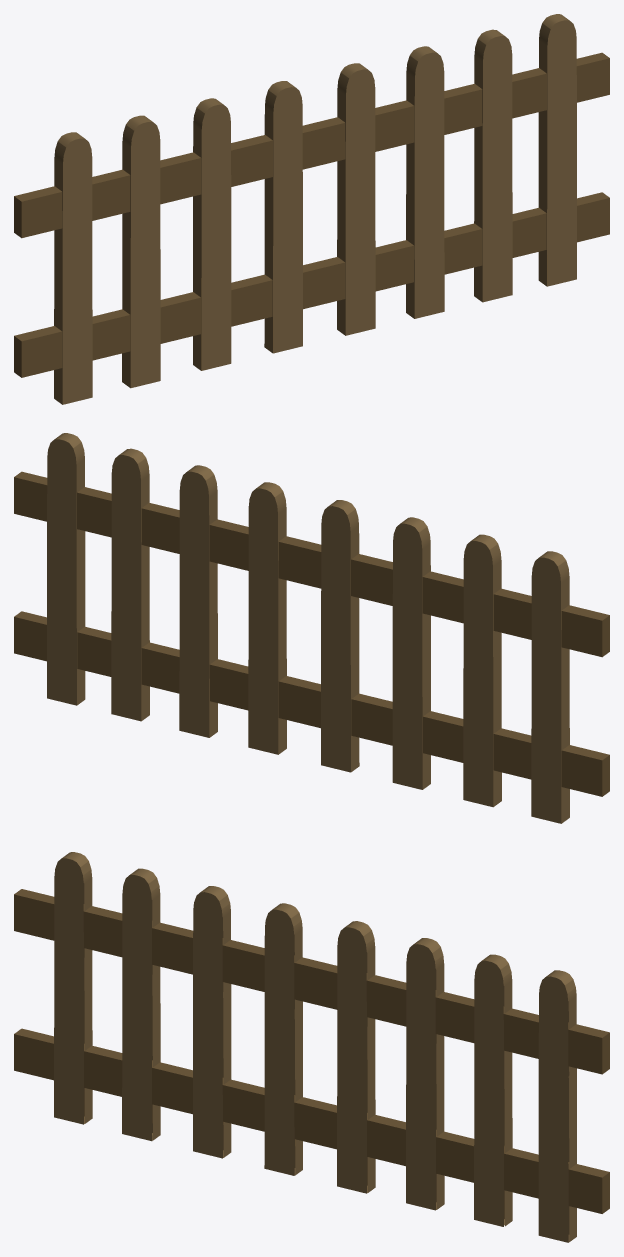
The model's file is fence.fbx.
The picture shows the model from 3 angles, top to bottom: view 1: azimuth 30°, elevation 25°; view 2: azimuth 150°, elevation 25°; view 3: azimuth 330°, elevation 25°; orthographic projection.
Parts seen in each view (by area): view 1: Fence; view 2: Fence; view 3: Fence.
Part boxes in pixels (x1,y1,x2,y2): Fence: (14,14,609,404); Fence: (14,433,609,823); Fence: (14,852,609,1242).
Size of the model in its own units: 3.1 by 1.32 by 0.0778.
1 material, 1 textured.
